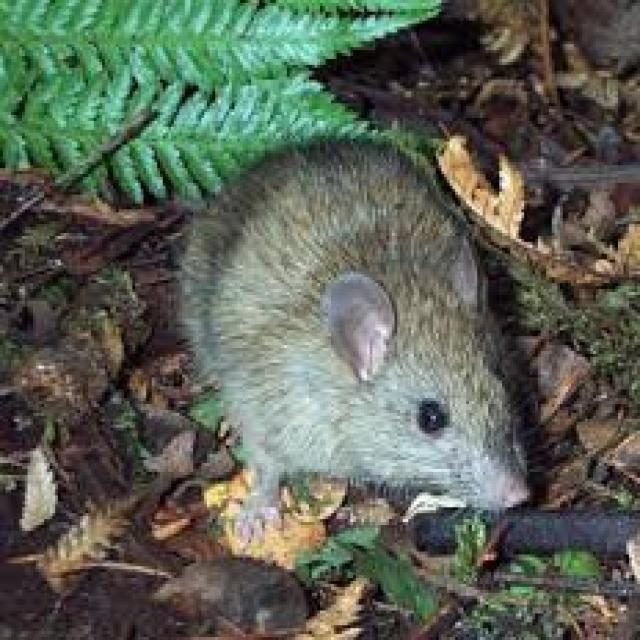rat: (171, 133, 532, 525)
